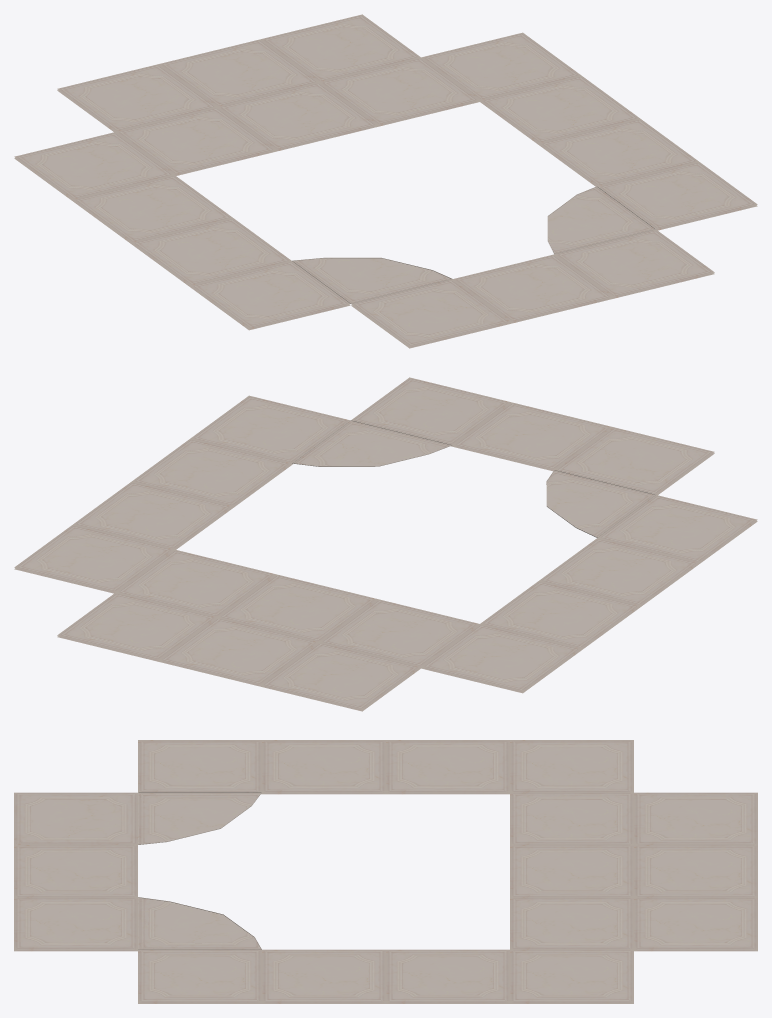
Rendered from Homeworld_Interior_Fd_Room_P_Ceiling_01_Vo.fbx.
3 views of the same model, one above another, from view 1: azimuth 30°, elevation 25°; view 2: azimuth 150°, elevation 25°; view 3: azimuth 270°, elevation 25° (orthographic). The views are drawn at different scales.
Visible parts, largest first — view 1: Homeworld_Interior_Fd_Room_Ceiling_01_Vo (×17), Homeworld_Interior_Fd_Room_Ceiling_02_L_Vo (×2); view 2: Homeworld_Interior_Fd_Room_Ceiling_01_Vo (×17), Homeworld_Interior_Fd_Room_Ceiling_02_L_Vo (×2); view 3: Homeworld_Interior_Fd_Room_Ceiling_01_Vo (×17), Homeworld_Interior_Fd_Room_Ceiling_02_L_Vo (×2).
Boxes of the visible parts, <box> form: Homeworld_Interior_Fd_Room_Ceiling_01_Vo (×17): <box>14,14,757,348</box>; Homeworld_Interior_Fd_Room_Ceiling_02_L_Vo (×2): <box>292,186,656,303</box>; Homeworld_Interior_Fd_Room_Ceiling_01_Vo (×17): <box>14,377,757,711</box>; Homeworld_Interior_Fd_Room_Ceiling_02_L_Vo (×2): <box>292,420,655,537</box>; Homeworld_Interior_Fd_Room_Ceiling_01_Vo (×17): <box>14,740,757,1003</box>; Homeworld_Interior_Fd_Room_Ceiling_02_L_Vo (×2): <box>138,792,261,949</box>.
Bounding box in the file's own units: 25 × 0.0897 × 30.
